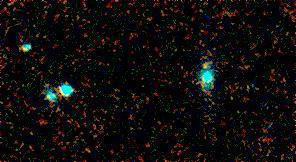star: (190, 51, 220, 81)
